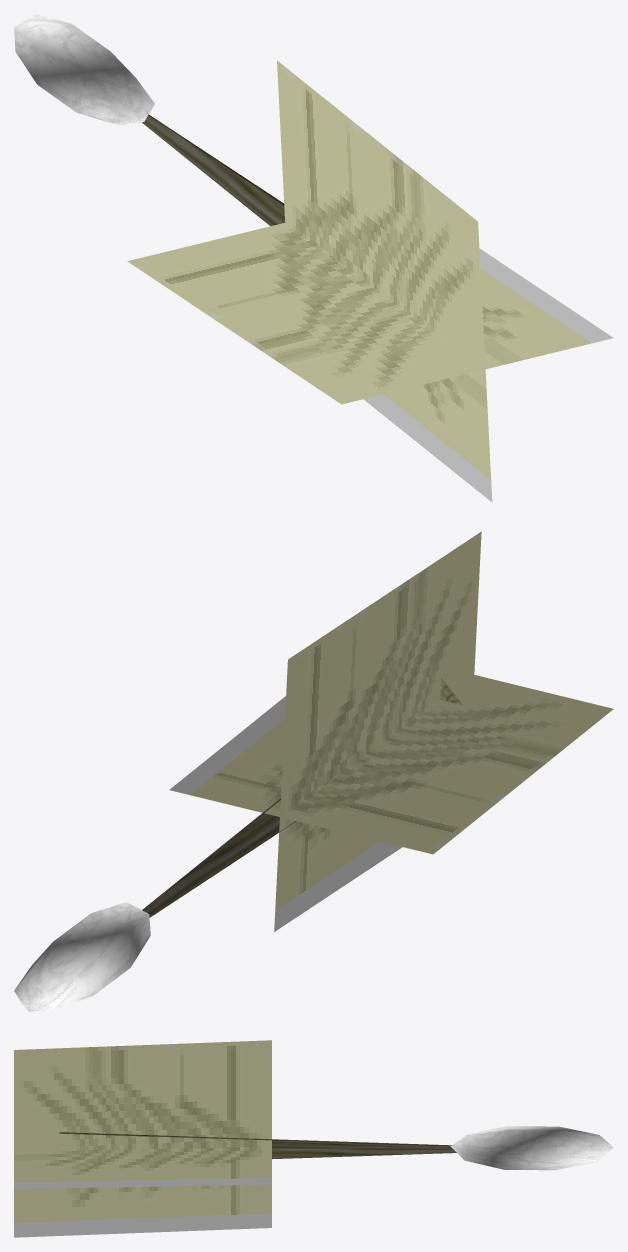
File: arrow_fire.obj
3 renders of one model, top to bottom at view 1: azimuth 30°, elevation 25°; view 2: azimuth 150°, elevation 25°; view 3: azimuth 270°, elevation 25°, orthographic. The views are drawn at different scales.
Visible parts, largest first — view 1: Duplicate01, Box02, Sphere01, Box01; view 2: Duplicate01, Box02, Sphere01, Box01; view 3: Duplicate01, Box02, Sphere01, Box01.
Part boxes in pixels (x1,y1,x2,y2): Duplicate01: (277, 60, 492, 502); Box02: (127, 223, 613, 404); Sphere01: (14, 14, 154, 126); Box01: (142, 113, 284, 226); Duplicate01: (274, 531, 481, 931); Box02: (169, 675, 613, 854); Sphere01: (14, 902, 150, 1011); Box01: (142, 678, 462, 917); Duplicate01: (14, 1040, 271, 1237); Box02: (14, 1148, 271, 1188); Sphere01: (451, 1126, 613, 1170); Box01: (59, 1132, 456, 1159).
Bounding box in the file's own units: 15.25 × 15.23 × 42.97.
